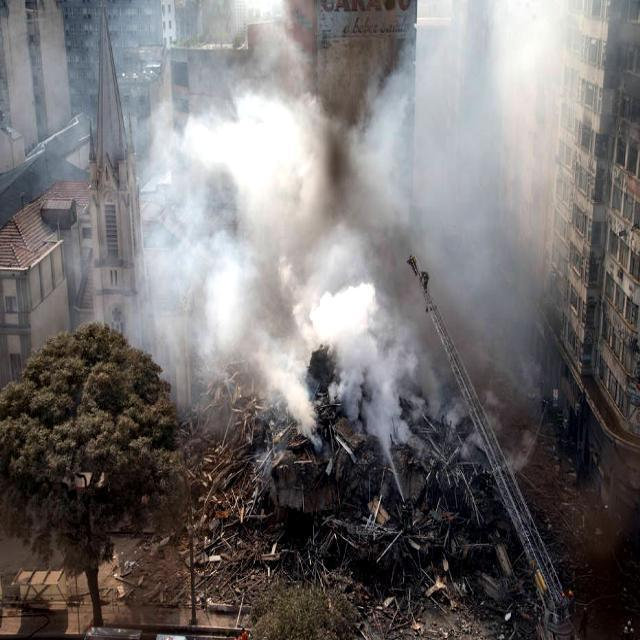Smoke: (133, 0, 608, 422)
